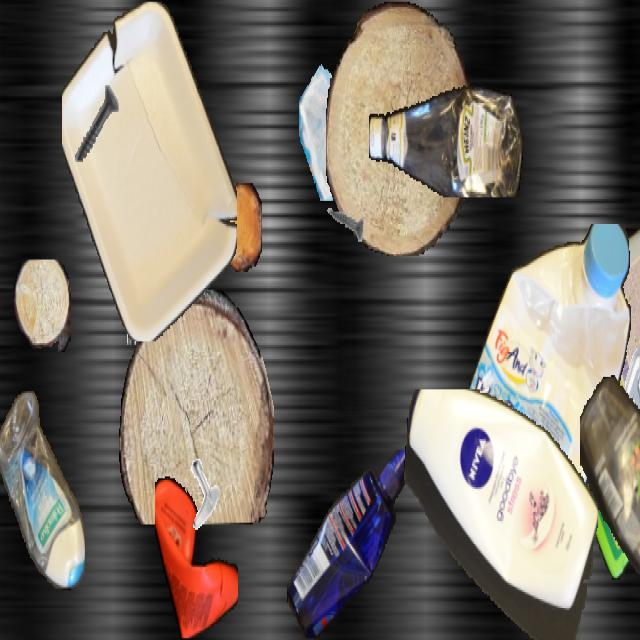glass: (299, 51, 383, 201), (467, 354, 529, 464)
metal: (65, 70, 127, 180), (119, 261, 165, 343), (179, 455, 223, 533), (613, 345, 640, 455), (324, 188, 364, 260)
plastic: (448, 224, 634, 590), (62, 2, 236, 340), (402, 390, 598, 638), (286, 450, 416, 638), (369, 76, 523, 198), (560, 203, 640, 430), (0, 391, 84, 590), (580, 372, 640, 638), (155, 471, 237, 638), (586, 416, 640, 580)
wood: (326, 2, 470, 254), (119, 290, 273, 524), (102, 166, 194, 300), (14, 260, 70, 352), (219, 183, 261, 272)
